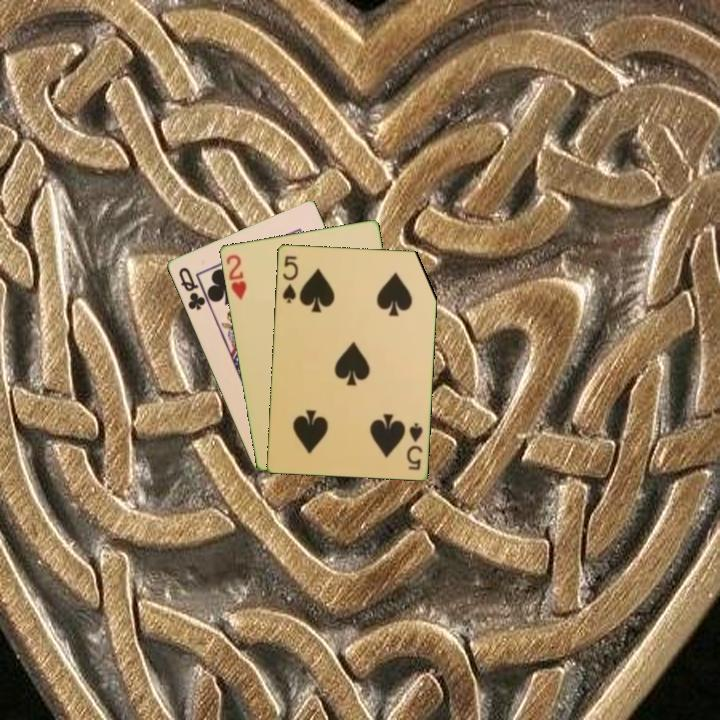2h: (222, 251, 249, 302)
5s: (278, 252, 301, 305), (403, 419, 425, 473)
Qc: (175, 263, 212, 313)
